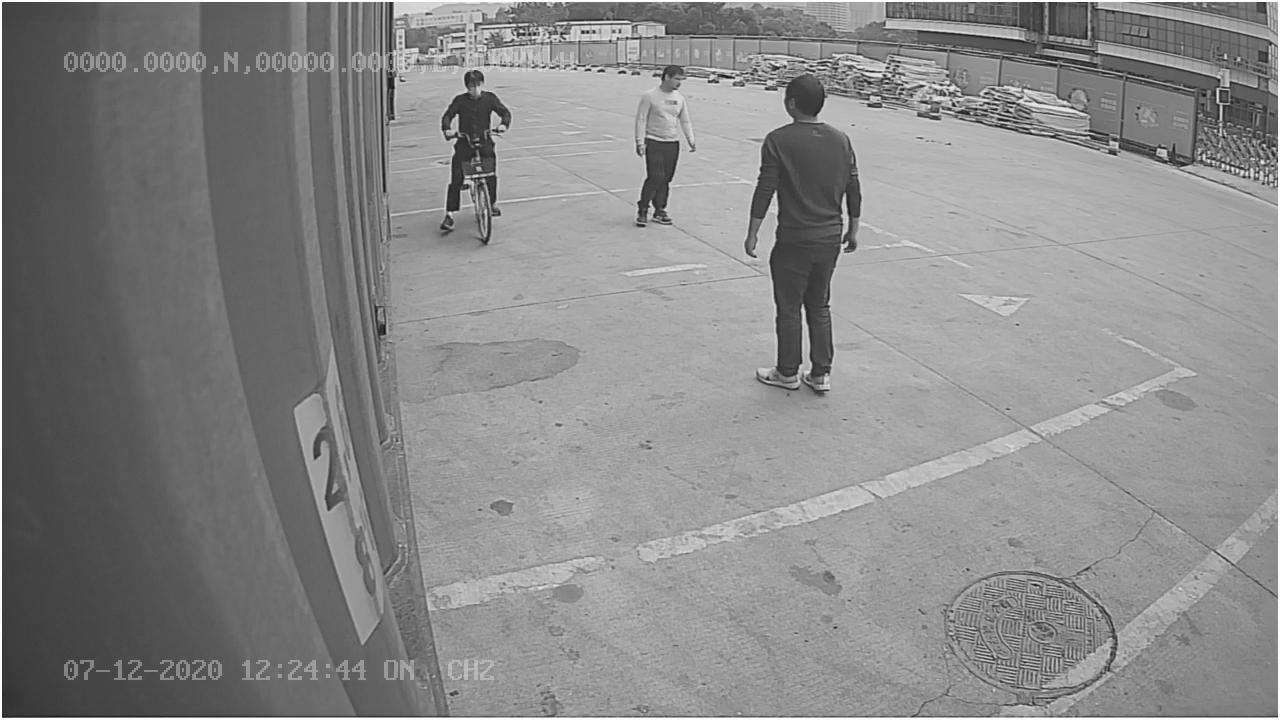person: (740, 71, 866, 397), (633, 64, 698, 226)
